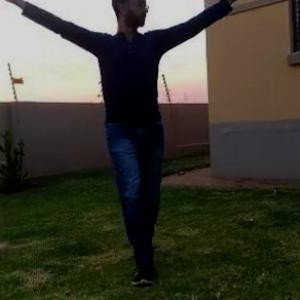takeoff: (0, 0, 248, 286)
